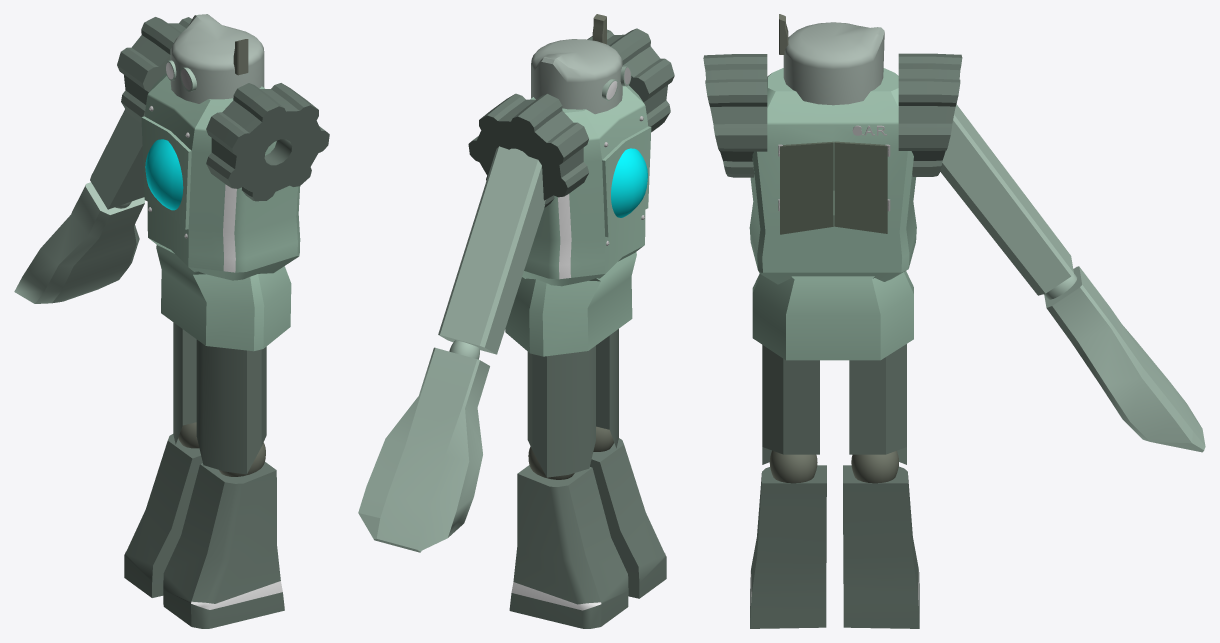
File: GAR One Arm.fbx
3 views of the same model, side by side, from view 1: azimuth 30°, elevation 25°; view 2: azimuth 150°, elevation 25°; view 3: azimuth 270°, elevation 25° (orthographic). The views are drawn at different scales.
Visible parts, largest first — view 1: GAR_MAIN1; view 2: GAR_MAIN1; view 3: GAR_MAIN1.
Boxes of the visible parts, left/top/right/bottom form: GAR_MAIN1: left=14, top=14, right=329, bottom=628; GAR_MAIN1: left=358, top=14, right=674, bottom=628; GAR_MAIN1: left=703, top=14, right=1205, bottom=628.
Size of the model in its own units: 2.67 by 11.78 by 8.96.
